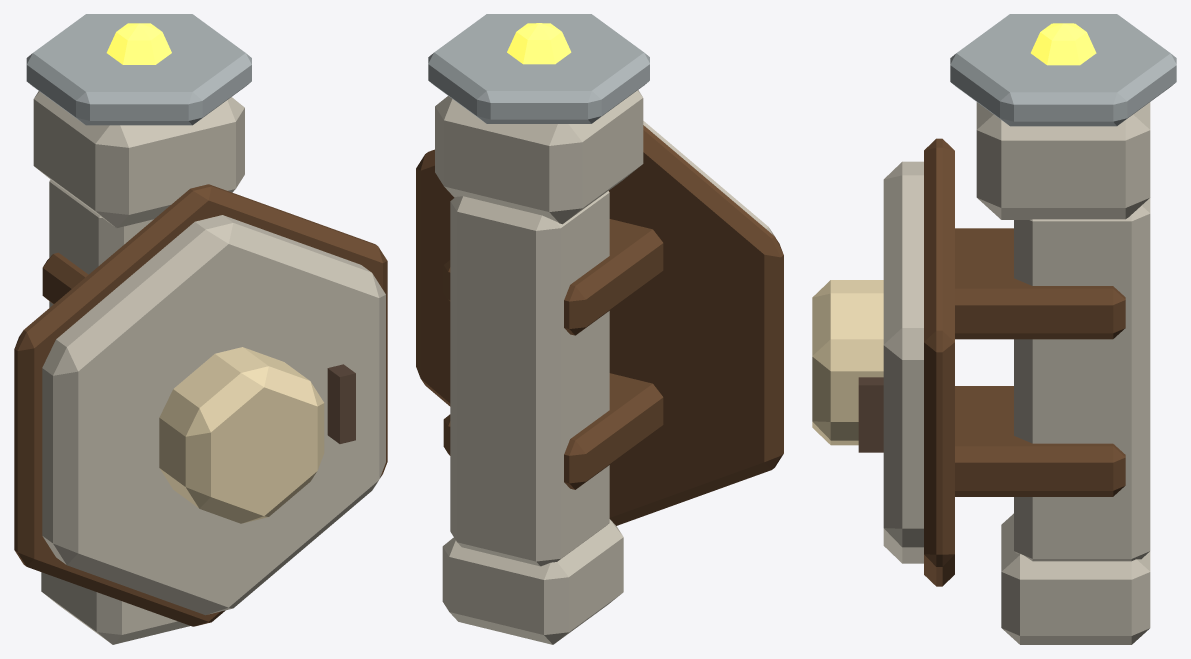
Rendered from arm_buckler.glb.
3 renders of one model, left to right at view 1: azimuth 30°, elevation 25°; view 2: azimuth 150°, elevation 25°; view 3: azimuth 270°, elevation 25°, orthographic. The views are drawn at different scales.
Visible parts, largest first — view 1: arm_buckler; view 2: arm_buckler; view 3: arm_buckler.
Part boxes in pixels (x1,y1,x2,y2): arm_buckler: (14, 14, 387, 644); arm_buckler: (416, 14, 783, 644); arm_buckler: (812, 14, 1176, 644).
Size of the model in its own units: 0.6928 by 1.06 by 0.5875.
Materials: 1 (1 with a texture image).
